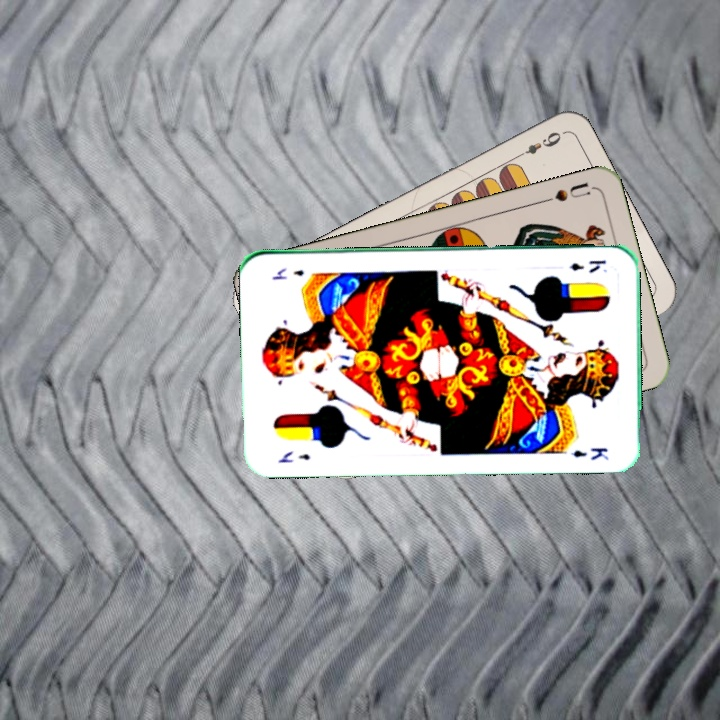E9: (511, 127, 564, 161)
EK: (566, 255, 609, 276), (274, 447, 313, 465)
SU: (538, 178, 593, 206)
